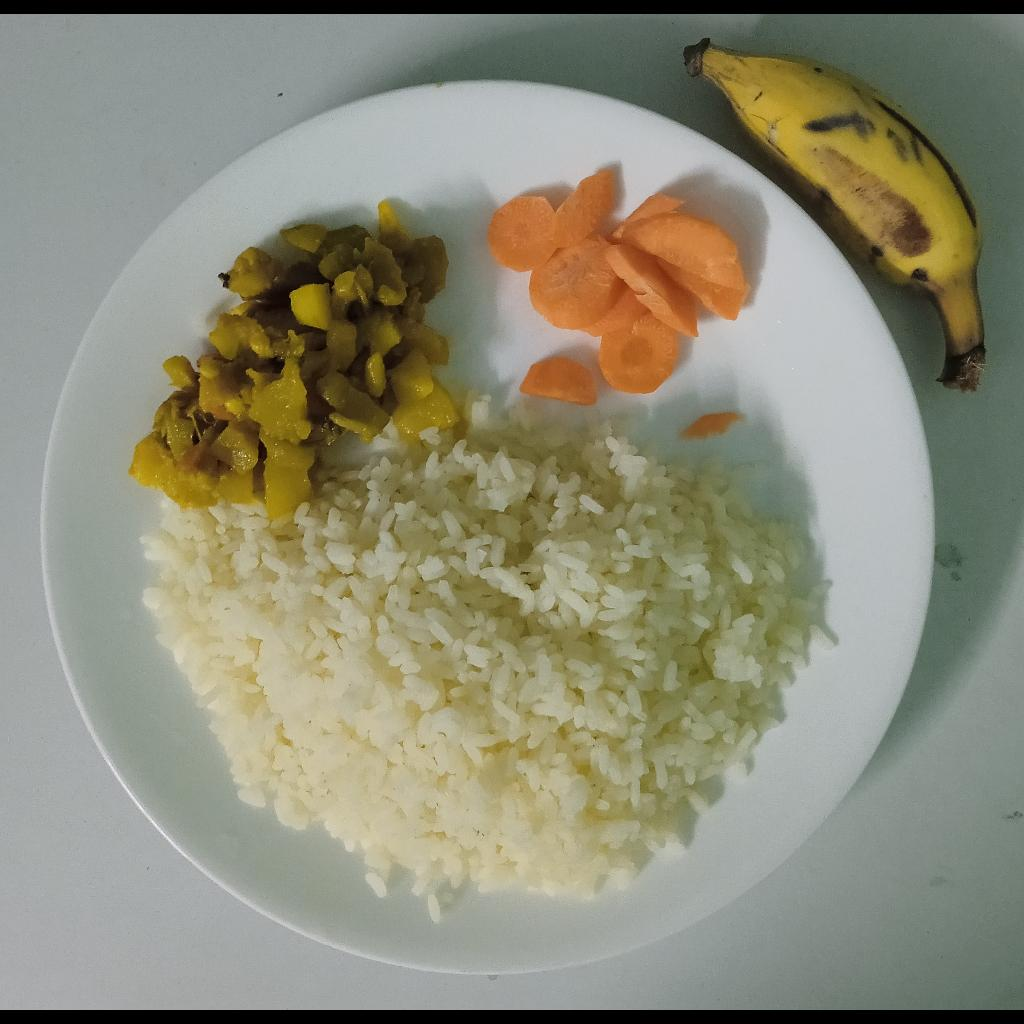banana: (687, 41, 985, 394)
carrot: (488, 168, 754, 396), (520, 357, 596, 404)
kumra-vaji: (133, 206, 460, 519)
rice: (139, 394, 839, 923)
